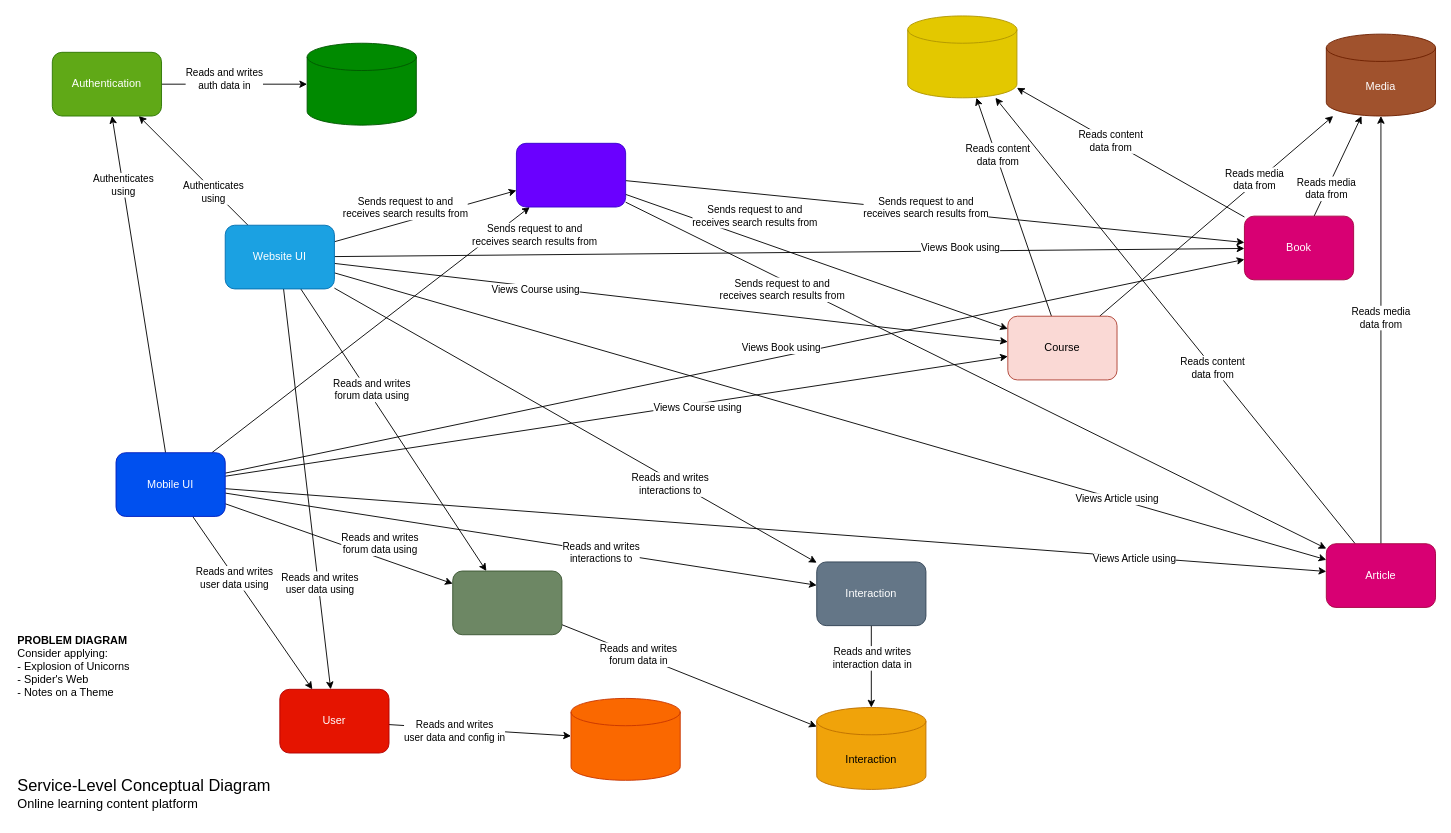
Some shapes in this 1451 by 833 pixel diagram are drawn without their labels. Here are the shapes that lost their labels. From the top down, the centre of each, then its label:
At pixel 962 56: "Content".
At pixel 361 83: "Auth".
At pixel 571 174: "Search".
At pixel 507 602: "Forum".
At pixel 625 739: "Config".
